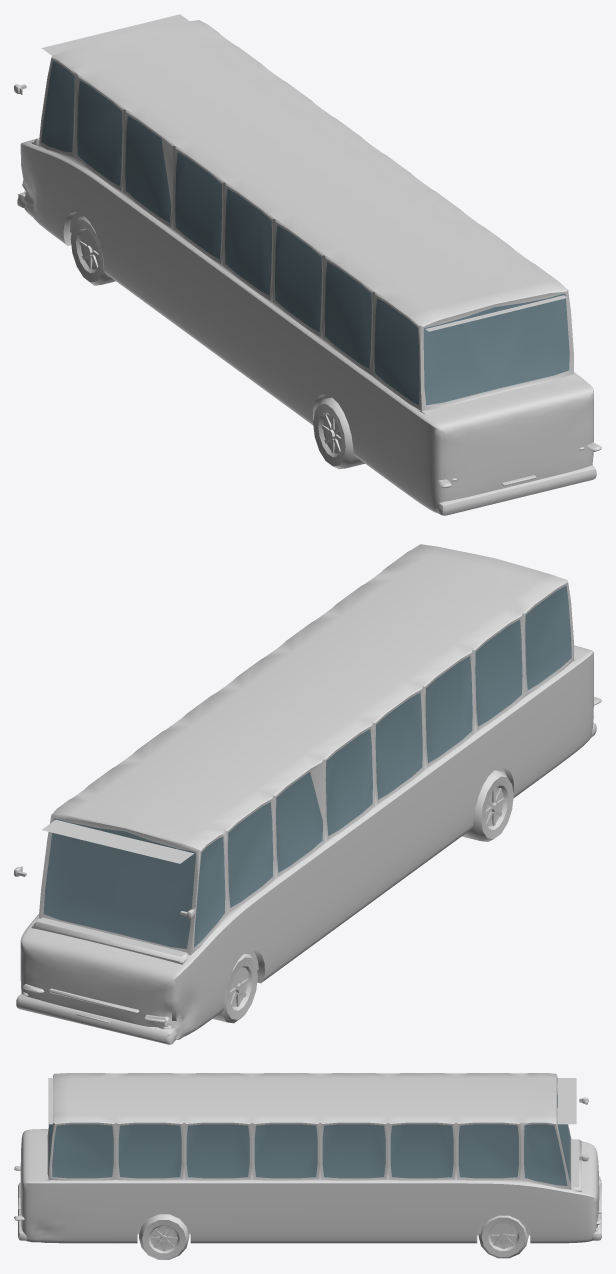
The model's file is car_bus_dmg1.glb.
3 views of the same model, one above another, from view 1: azimuth 30°, elevation 25°; view 2: azimuth 150°, elevation 25°; view 3: azimuth 270°, elevation 25° (orthographic). The views are drawn at different scales.
Parts seen in each view (by area): view 1: car_bus_dmg1; view 2: car_bus_dmg1; view 3: car_bus_dmg1.
Part boxes in pixels (x1,y1,x2,y2): car_bus_dmg1: (14, 14, 601, 515); car_bus_dmg1: (14, 544, 601, 1044); car_bus_dmg1: (14, 1073, 601, 1259).
Size of the model in its own units: 2.79 by 3.04 by 11.69.
